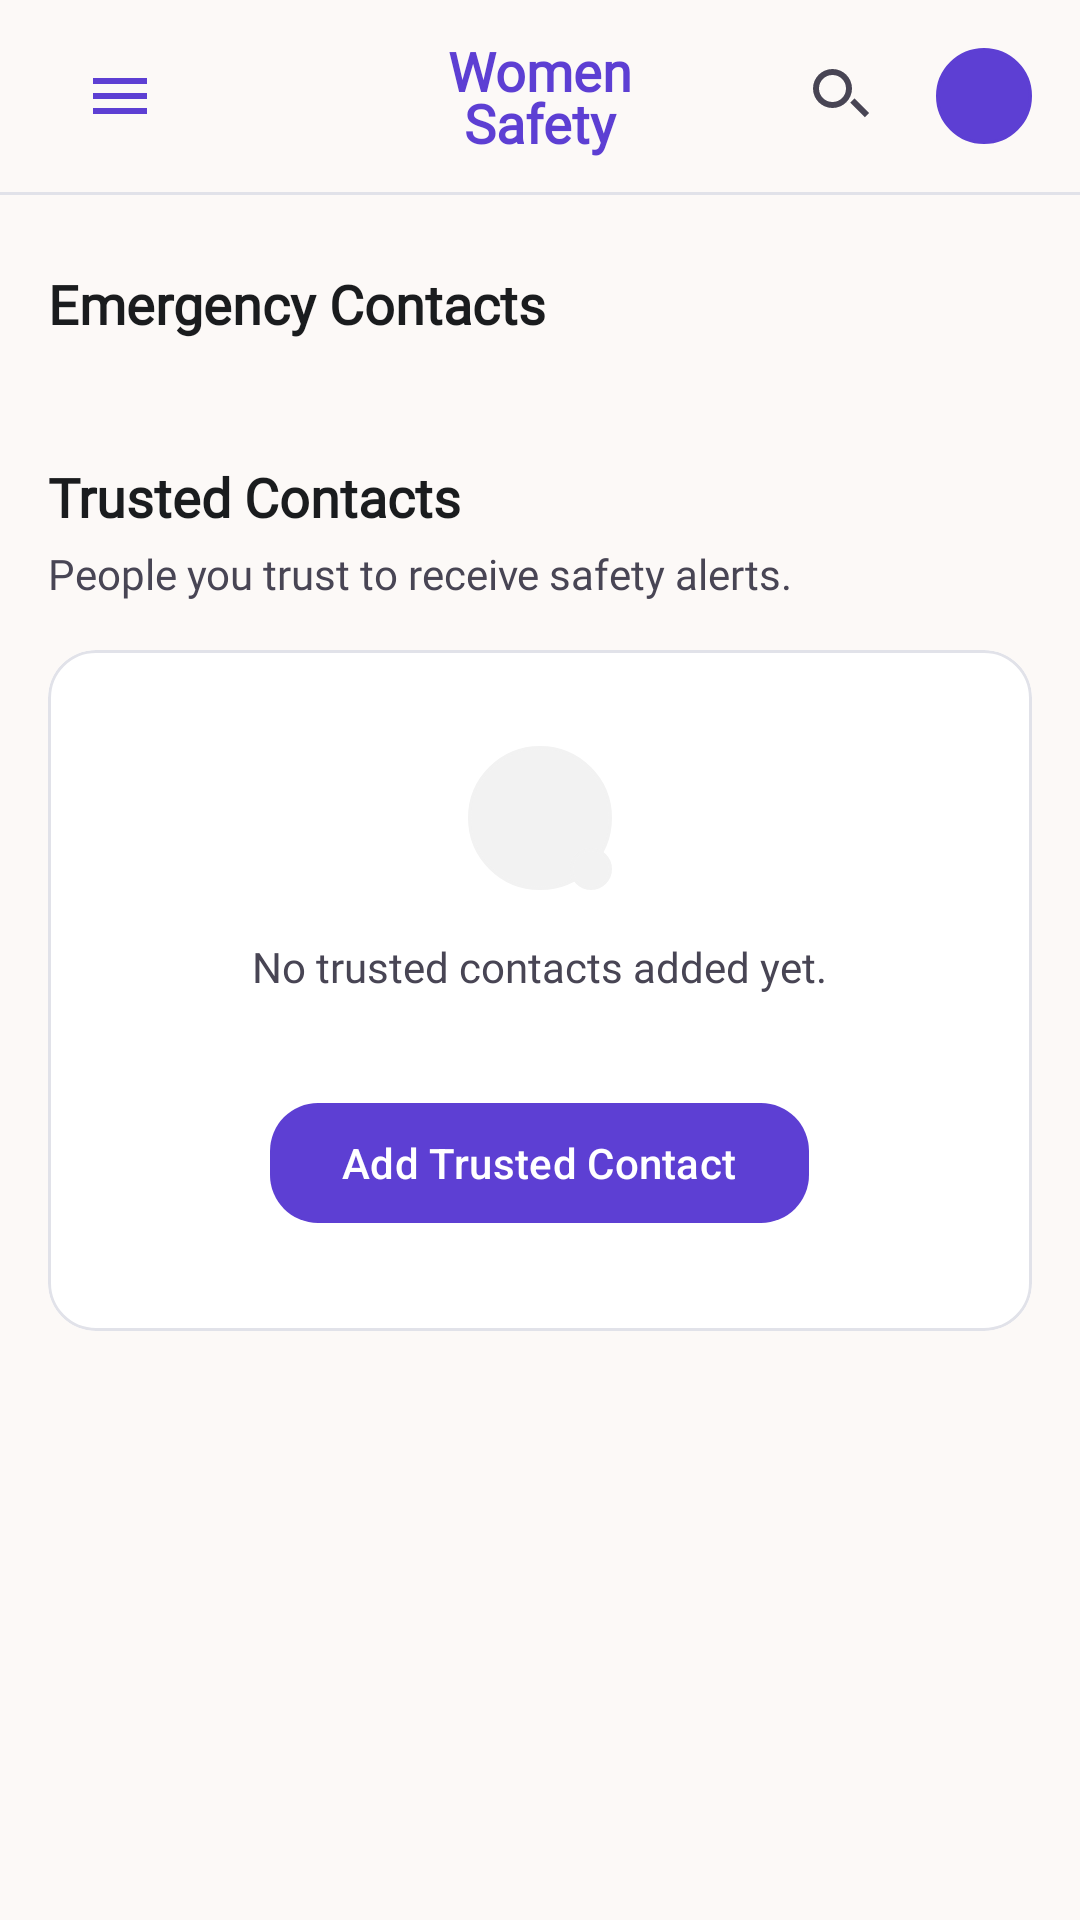

Named icons in this screenshot (1080w x 1920h) and their bounding boxes, (x1, y1, x2, y2):
menu: (93, 78, 147, 114)
search: (813, 69, 869, 117)
